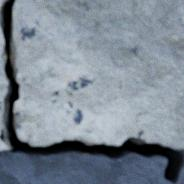broken_brick: (12, 0, 183, 149), (0, 30, 7, 150), (0, 0, 6, 9)
crack: (0, 0, 183, 183)
